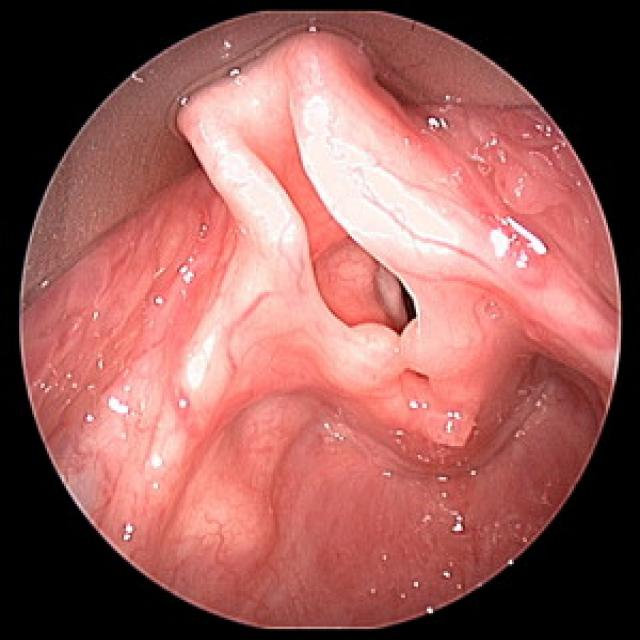arytenoid cartilagerotation: (325, 316, 478, 389)
epiglottisrotation: (168, 23, 469, 279)
larynxrotation: (369, 266, 416, 331)
